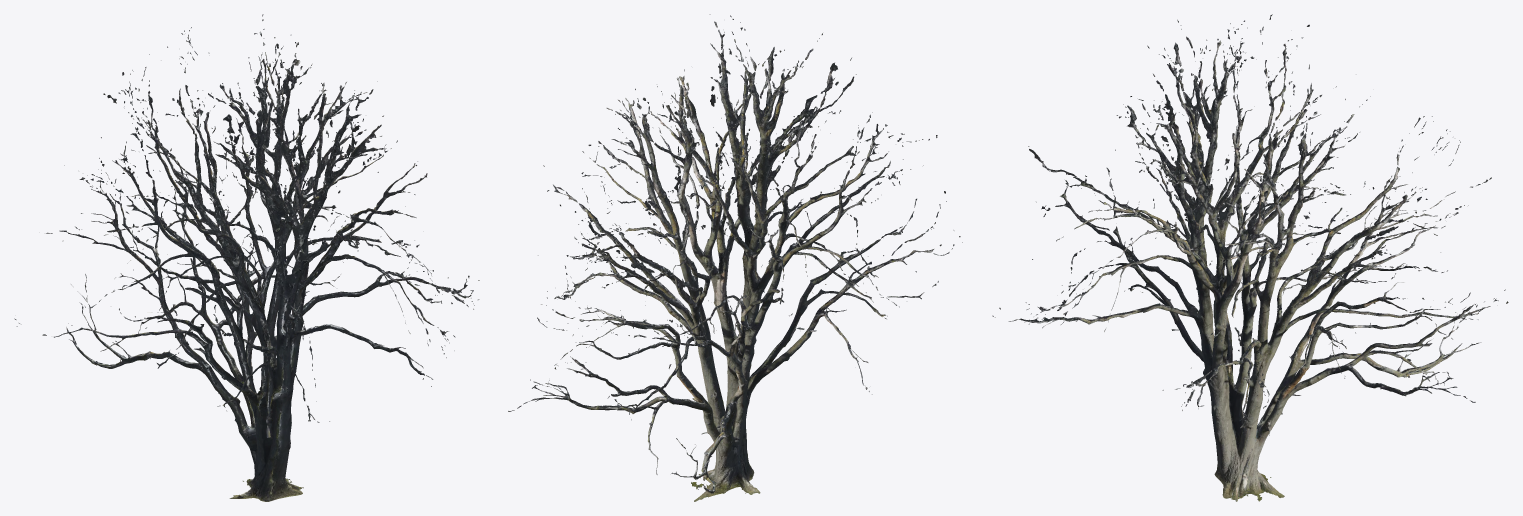
The model's file is desnudo.glb.
The picture shows the model from 3 angles, left to right: view 1: azimuth 30°, elevation 25°; view 2: azimuth 150°, elevation 25°; view 3: azimuth 270°, elevation 25°; orthographic projection. The views are drawn at different scales.
Parts seen in each view (by area): view 1: Object_2; view 2: Object_2; view 3: Object_2.
Boxes of the visible parts, x1,y1,x2,y2 form: Object_2: [14, 14, 479, 501]; Object_2: [508, 14, 962, 501]; Object_2: [992, 14, 1508, 501].
Bounding box in the file's own units: 2.59 × 3.1 × 3.09.
1 material, 1 textured.
